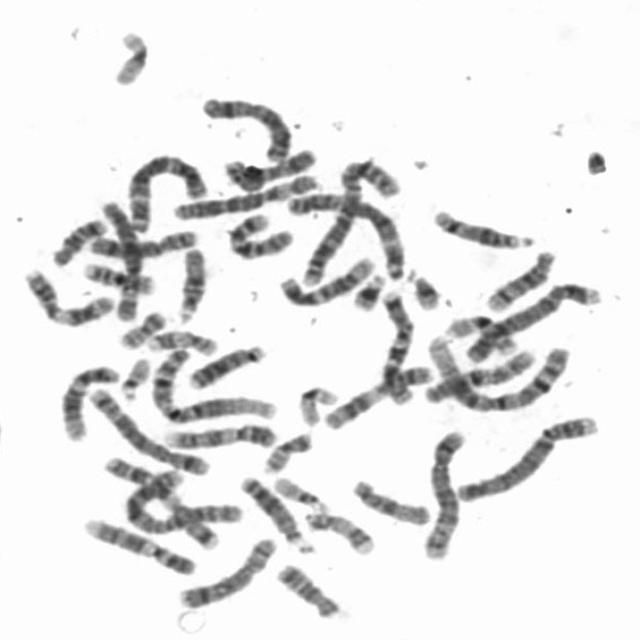A1: (418, 329, 575, 412), (144, 340, 282, 425)
A2: (289, 151, 405, 289), (99, 447, 235, 545)
A3: (280, 184, 411, 281), (120, 145, 211, 233)
B4: (448, 406, 603, 505), (454, 273, 606, 365)
B5: (82, 379, 212, 477), (415, 422, 470, 561)
C10: (418, 342, 542, 405), (219, 206, 297, 260)
C11: (315, 357, 436, 431), (16, 260, 117, 328)
C12: (271, 248, 379, 308), (52, 357, 123, 442)
C6: (166, 166, 323, 221), (92, 192, 144, 324)
C7: (103, 457, 220, 554), (373, 283, 419, 406)
C8: (170, 530, 279, 610), (80, 221, 201, 260)
C9: (75, 509, 200, 577), (157, 416, 280, 451)
D13: (232, 468, 318, 554), (182, 336, 270, 391)
D14: (479, 240, 560, 312), (426, 202, 536, 250)
D15: (344, 471, 433, 527), (168, 240, 210, 324)
E16: (437, 308, 521, 356), (75, 255, 159, 295)
E17: (297, 504, 378, 556), (140, 321, 221, 357)
E18: (269, 556, 344, 620), (44, 210, 109, 268)
F19: (104, 22, 154, 88), (292, 378, 342, 426)
F20: (256, 425, 316, 475), (111, 303, 170, 350)
G21: (402, 262, 444, 312), (345, 266, 389, 312)
G22: (266, 469, 332, 513), (112, 349, 154, 401)
X: (194, 89, 295, 163), (217, 140, 320, 192)
